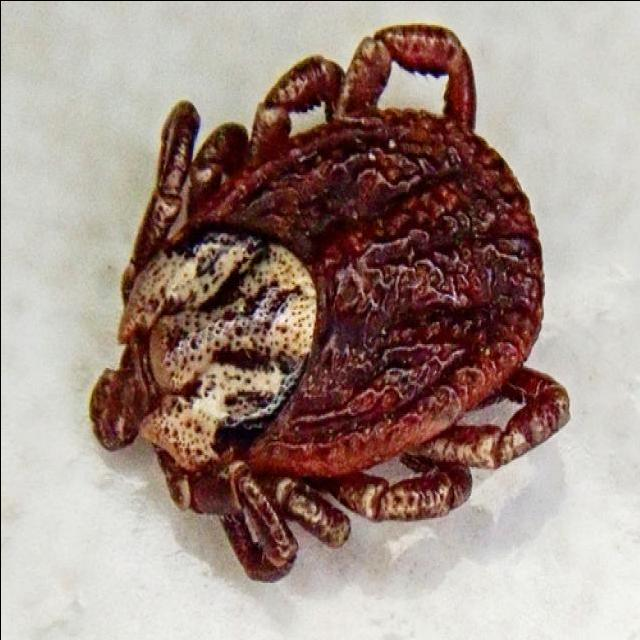Dermacentor Reticulatus-F: (87, 22, 571, 584)
